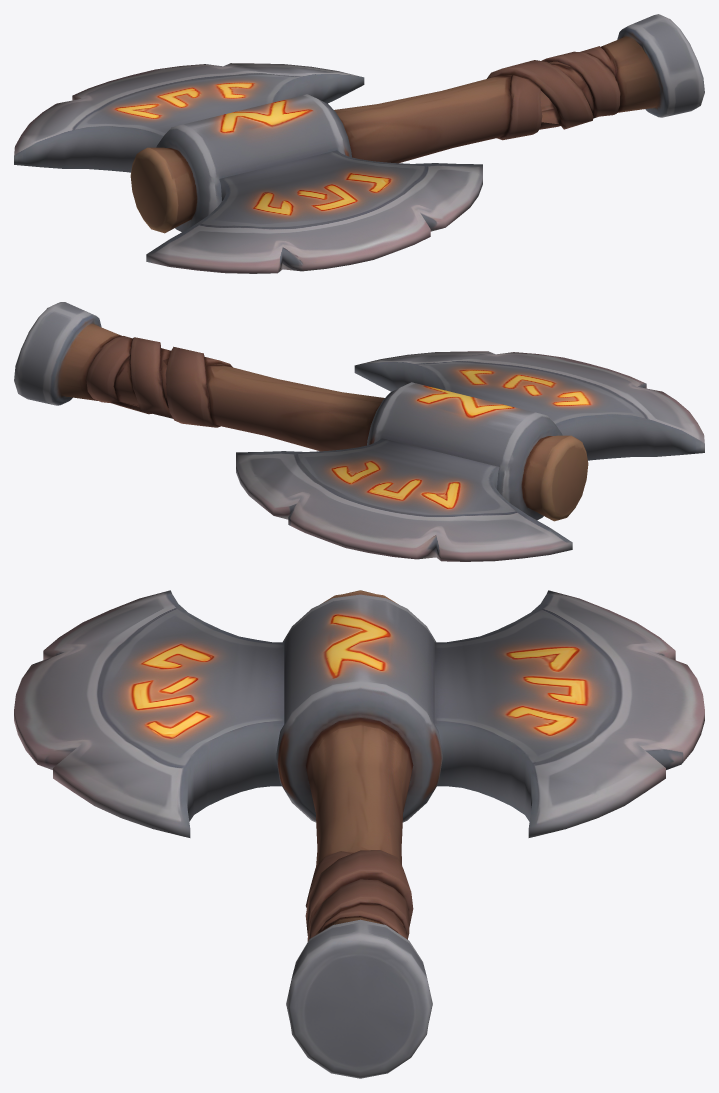
The model's file is power_might_tripo.glb.
3 views of the same model, one above another, from view 1: azimuth 30°, elevation 25°; view 2: azimuth 150°, elevation 25°; view 3: azimuth 270°, elevation 25° (orthographic). The views are drawn at different scales.
Parts seen in each view (by area): view 1: tripo_node_157f0798-f0bb-49d0-9f6f-38a81ede33d5; view 2: tripo_node_157f0798-f0bb-49d0-9f6f-38a81ede33d5; view 3: tripo_node_157f0798-f0bb-49d0-9f6f-38a81ede33d5.
Boxes of the visible parts, bbox=[...] form: tripo_node_157f0798-f0bb-49d0-9f6f-38a81ede33d5: bbox=[14, 14, 704, 273]; tripo_node_157f0798-f0bb-49d0-9f6f-38a81ede33d5: bbox=[14, 302, 704, 561]; tripo_node_157f0798-f0bb-49d0-9f6f-38a81ede33d5: bbox=[14, 590, 704, 1078].
Size of the model in its own units: 0.998 by 0.166 by 0.6895.
1 material, 1 textured.
